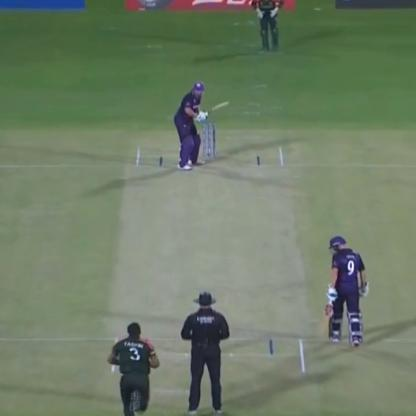bat: (315, 289, 332, 344), (203, 100, 237, 118)
pitch: (105, 140, 316, 386)
